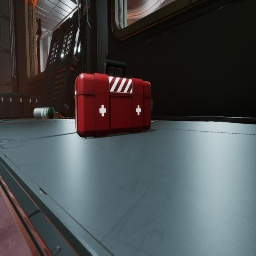0: (33, 107, 58, 119)
FirstAidBox ,: (74, 59, 151, 139)
